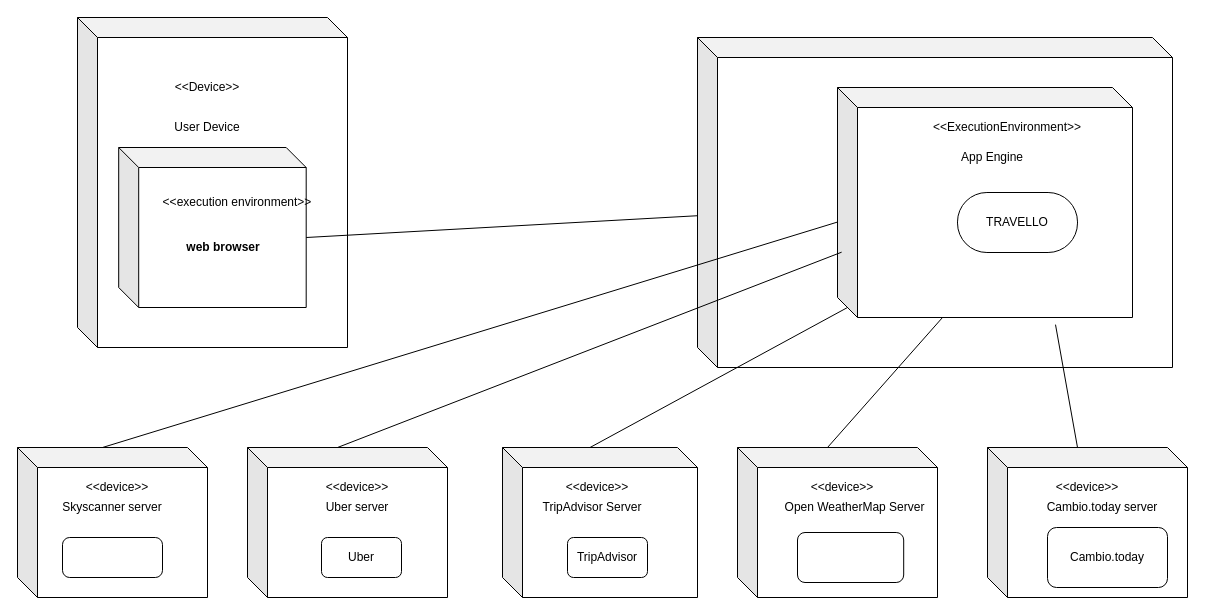
Image size: 1205x615. Some labels were removed from this diagram. The centre of each missing label's shape, as x and y in pixels:
OpenWeatherMap: the point at 850,557
Skyscanner: the point at 112,557
